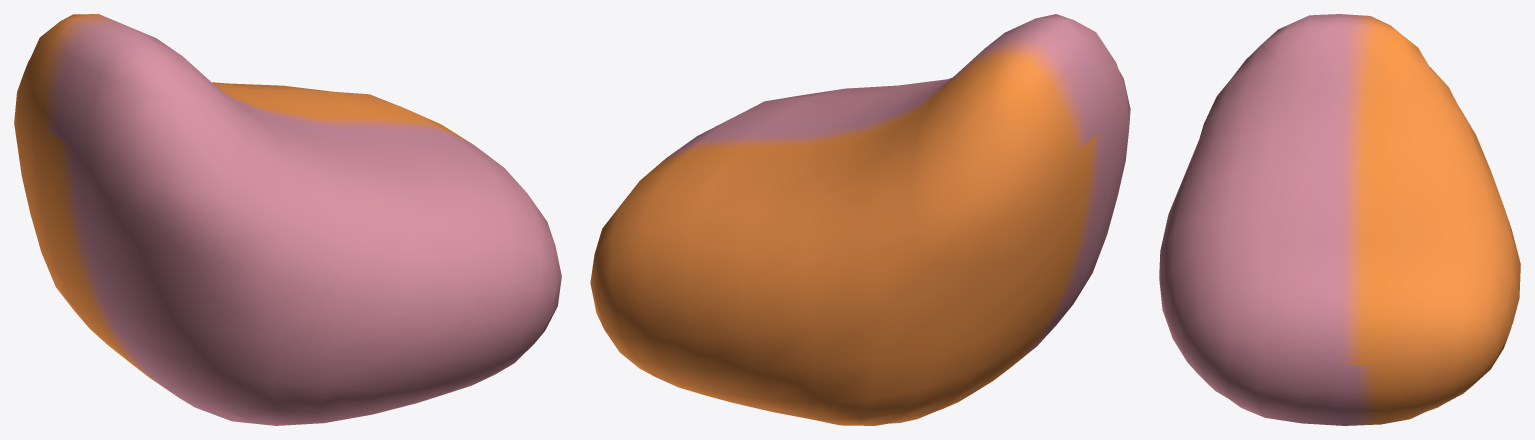
The model's file is Childroom2_Pouf.fbx.
The picture shows the model from 3 angles, left to right: view 1: azimuth 30°, elevation 25°; view 2: azimuth 150°, elevation 25°; view 3: azimuth 270°, elevation 25°; orthographic projection. The views are drawn at different scales.
Parts seen in each view (by area): view 1: Childroom2_Pouf; view 2: Childroom2_Pouf; view 3: Childroom2_Pouf.
Boxes of the visible parts, x1,y1,x2,y2 form: Childroom2_Pouf: (14,14,561,425); Childroom2_Pouf: (590,14,1130,425); Childroom2_Pouf: (1159,14,1520,425).
Bounding box in the file's own units: 136 × 109 × 129.
